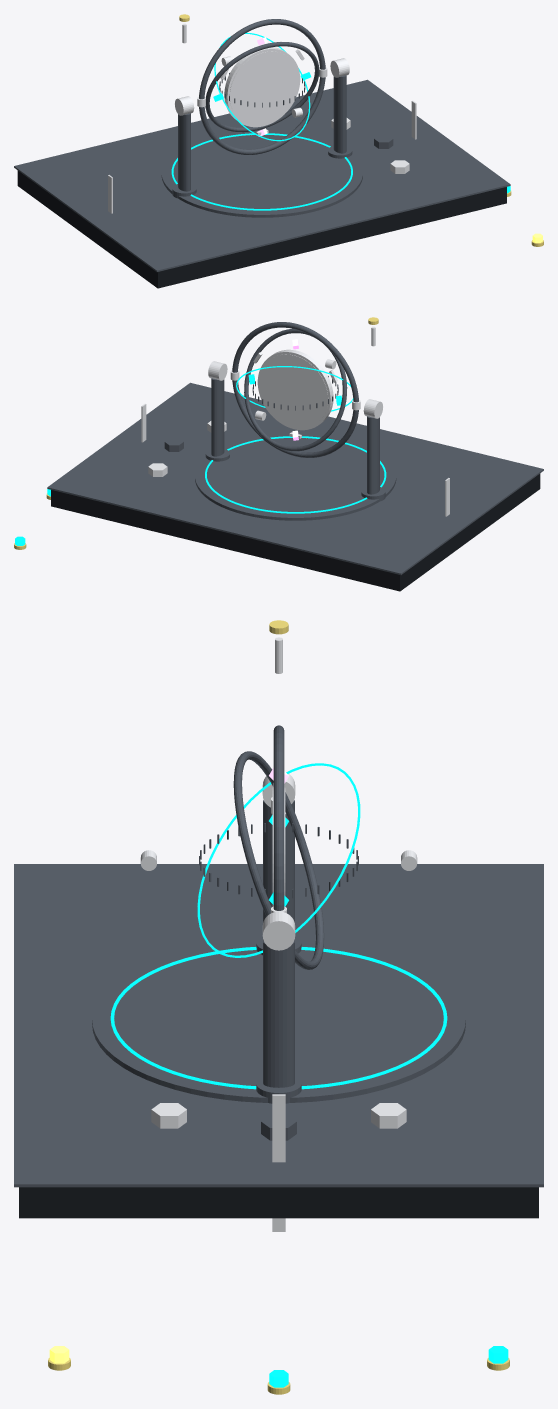
The model's file is swap_airlock_vault.glb.
The picture shows the model from 3 angles, top to bottom: view 1: azimuth 30°, elevation 25°; view 2: azimuth 150°, elevation 25°; view 3: azimuth 270°, elevation 25°; orthographic projection. The views are drawn at different scales.
Visible parts, largest first — view 1: Chassis_Perimeter_Rail, Chassis_Docking_Well, Chassis_Main_Slab, USDC_Faceplate_Back, Gimbal_Ring_Outer, Gimbal_Ring_Mid, Chassis_Trunnion_Column_1, Chassis_Trunnion_Column_0, USDC_Coin_Rim, Chassis_Luminous_Bus_Ring, Gimbal_Laser_Waveguide; view 2: Chassis_Perimeter_Rail, Chassis_Docking_Well, Chassis_Main_Slab, USDC_Faceplate_Front, Gimbal_Ring_Outer, Gimbal_Ring_Mid, Chassis_Trunnion_Column_1, Chassis_Trunnion_Column_0, USDC_Coin_Rim, Chassis_Luminous_Bus_Ring; view 3: Chassis_Perimeter_Rail, Chassis_Docking_Well, Chassis_Main_Slab, Chassis_Trunnion_Column_1, Gimbal_Ring_Mid, Chassis_Luminous_Bus_Ring, Gimbal_Ring_Outer, Chassis_Trunnion_Column_0, Gimbal_Laser_Waveguide, Chassis_Trunnion_Flute_1, Chassis_Trunnion_Bearing_1.
Part boxes in pixels (x1,y1,x2,y2): Chassis_Perimeter_Rail: (14, 79, 510, 271); Chassis_Docking_Well: (161, 130, 362, 217); Chassis_Main_Slab: (17, 170, 506, 288); USDC_Faceplate_Back: (229, 51, 297, 124); Gimbal_Ring_Outer: (199, 19, 325, 154); Gimbal_Ring_Mid: (205, 42, 319, 132); Chassis_Trunnion_Column_1: (333, 75, 346, 153); Chassis_Trunnion_Column_0: (178, 113, 190, 191); USDC_Coin_Rim: (224, 47, 300, 127); Chassis_Luminous_Bus_Ring: (171, 133, 352, 210); Gimbal_Laser_Waveguide: (214, 32, 310, 141); Chassis_Perimeter_Rail: (47, 382, 543, 574); Chassis_Docking_Well: (195, 432, 396, 520); Chassis_Main_Slab: (51, 473, 540, 591); USDC_Faceplate_Front: (260, 354, 328, 427); Gimbal_Ring_Outer: (232, 322, 358, 457); Gimbal_Ring_Mid: (244, 328, 347, 451); Chassis_Trunnion_Column_1: (211, 378, 224, 456); Chassis_Trunnion_Column_0: (367, 416, 379, 494); USDC_Coin_Rim: (257, 349, 333, 430); Chassis_Luminous_Bus_Ring: (205, 436, 386, 513); Chassis_Perimeter_Rail: (14, 864, 543, 1187); Chassis_Docking_Well: (92, 940, 465, 1102); Chassis_Main_Slab: (19, 1187, 538, 1218); Chassis_Trunnion_Column_1: (263, 941, 294, 1087); Gimbal_Ring_Mid: (233, 751, 324, 969); Chassis_Luminous_Bus_Ring: (110, 947, 447, 1089); Gimbal_Ring_Outer: (273, 725, 284, 910); Chassis_Trunnion_Column_0: (263, 800, 294, 941); Gimbal_Laser_Waveguide: (197, 763, 360, 957); Chassis_Trunnion_Flute_1: (272, 1094, 285, 1231); Chassis_Trunnion_Bearing_1: (262, 911, 295, 950).
Size of the model in its own units: 11.2 by 6.45 by 6.52.
